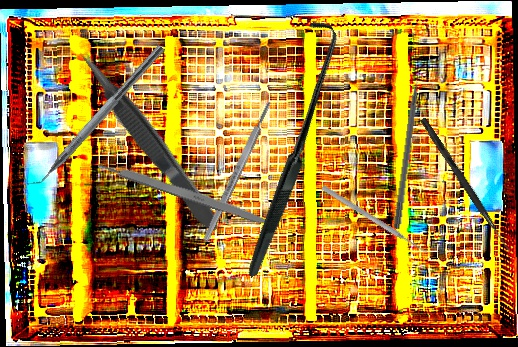Chopper: (19, 35, 166, 198)
Hook Surgical: (154, 15, 422, 278), (418, 117, 514, 253)
Pusher: (320, 184, 429, 256), (392, 61, 426, 230)
Scalpel Handle: (97, 157, 274, 229), (200, 99, 275, 244)
Tissue Forceps: (72, 42, 225, 239)
